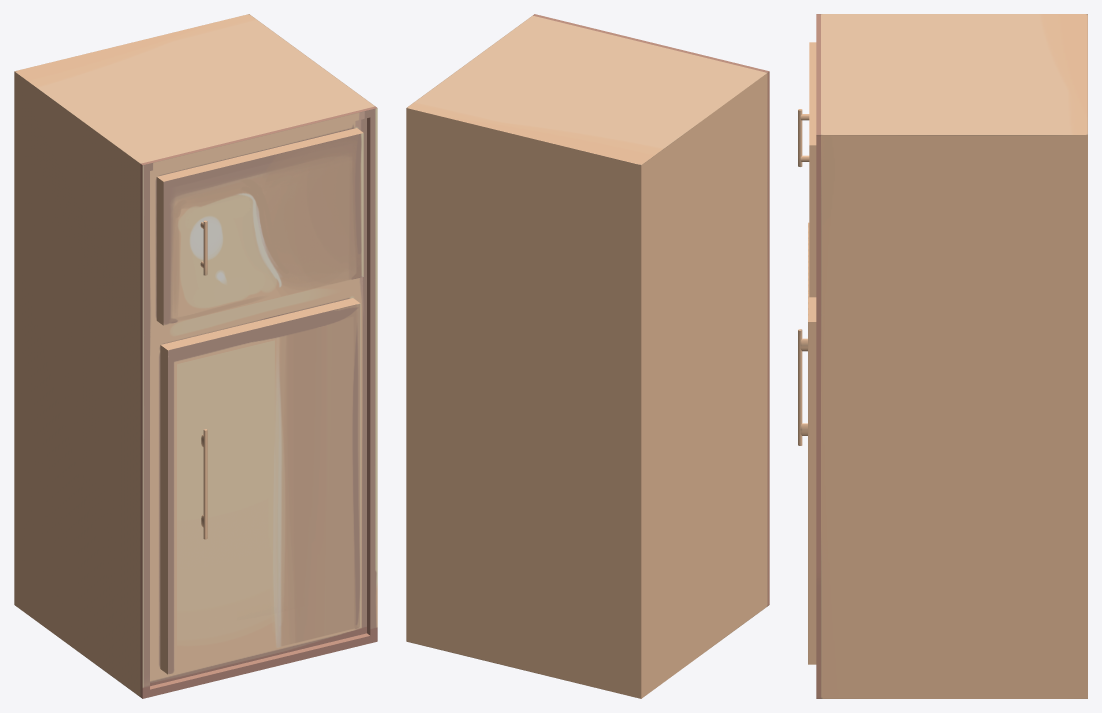
File: fridge shump asset.fbx
The picture shows the model from 3 angles, left to right: view 1: azimuth 30°, elevation 25°; view 2: azimuth 150°, elevation 25°; view 3: azimuth 270°, elevation 25°; orthographic projection. The views are drawn at different scales.
Visible parts, largest first — view 1: fridge; view 2: fridge; view 3: fridge.
Part boxes in pixels (x1,y1,x2,y2): fridge: (14,14,377,698); fridge: (406,14,769,698); fridge: (798,14,1087,698).
Size of the model in its own units: 315 by 683 by 318.
